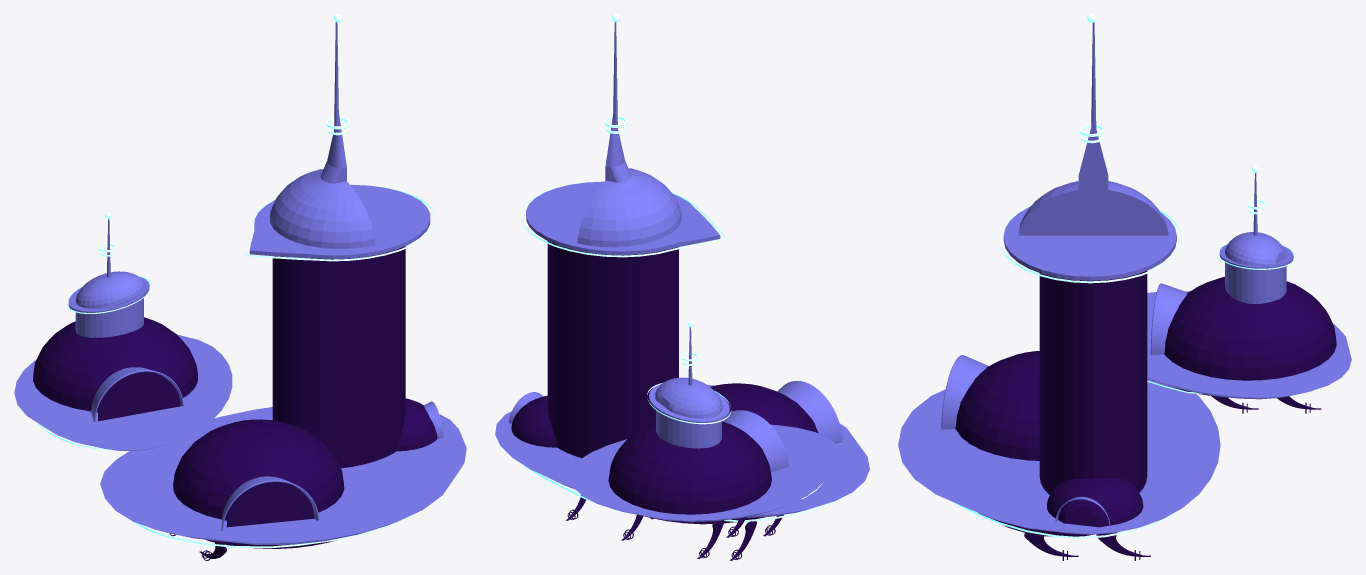
Rendered from worksBuilding.glb.
3 views of the same model, side by side, from view 1: azimuth 30°, elevation 25°; view 2: azimuth 150°, elevation 25°; view 3: azimuth 270°, elevation 25° (orthographic). The views are drawn at different scales.
Parts seen in each view (by area): view 1: Cylinder, platformbase, Sphere.004, Circle.011, Sphere.009, Sphere.005, Circle.010, Circle.023, Circle.022, Sphere.052, Cylinder.027, Sphere.008 (+5 smaller); view 2: Cylinder, Sphere.009, Circle.011, Sphere.005, Circle.010, platformbase, Sphere.004, Sphere.052, Arc.004, Arc.006, Cylinder.027, Sphere.008 (+2 smaller); view 3: Cylinder, platformbase, Sphere.009, Sphere.005, Sphere.004, Circle.010, Circle.011, Sphere.008, Cylinder.027, Sphere.052, Arc.004, Arc.006 (+2 smaller).
Boxes of the visible parts, <box> form: Cylinder: <box>272,246,405,468</box>; platformbase: <box>100,407,466,544</box>; Sphere.004: <box>173,419,344,520</box>; Circle.011: <box>14,334,232,450</box>; Sphere.009: <box>33,317,197,412</box>; Sphere.005: <box>269,114,375,248</box>; Circle.010: <box>249,184,430,259</box>; Circle.023: <box>226,482,314,527</box>; Circle.022: <box>98,370,180,421</box>; Sphere.052: <box>75,271,145,308</box>; Cylinder.027: <box>75,294,143,337</box>; Sphere.008: <box>397,398,437,451</box>; Cylinder: <box>547,241,678,457</box>; Sphere.009: <box>608,421,771,514</box>; Circle.011: <box>571,424,838,521</box>; Sphere.005: <box>577,114,681,247</box>; Circle.010: <box>526,181,720,255</box>; platformbase: <box>495,385,869,517</box>; Sphere.004: <box>711,383,818,433</box>; Sphere.052: <box>655,377,722,418</box>; Arc.004: <box>777,381,842,444</box>; Arc.006: <box>722,410,788,472</box>; Cylinder.027: <box>656,410,721,448</box>; Sphere.008: <box>511,395,556,447</box>; Cylinder: <box>1039,271,1147,494</box>; platformbase: <box>898,379,1220,534</box>; Sphere.009: <box>1164,276,1336,380</box>; Sphere.005: <box>1018,118,1168,235</box>; Sphere.004: <box>955,351,1039,460</box>; Circle.010: <box>1003,206,1176,280</box>; Circle.011: <box>1147,291,1351,399</box>; Sphere.008: <box>1047,478,1143,527</box>; Cylinder.027: <box>1225,254,1286,303</box>; Sphere.052: <box>1225,232,1286,265</box>; Arc.004: <box>941,355,988,429</box>; Arc.006: <box>1150,283,1187,355</box>.
Size of the model in its own units: 12.43 by 16.32 by 12.55.
